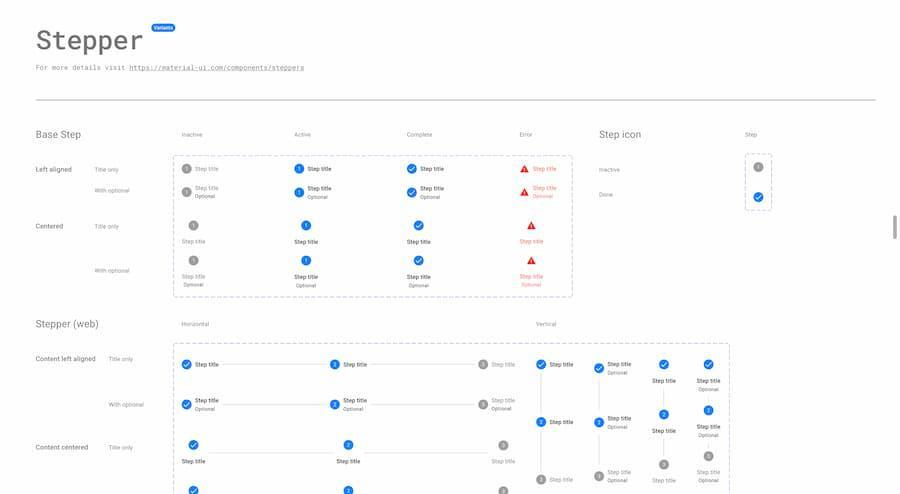checkbox: (188, 439, 206, 455), (413, 219, 429, 234), (413, 254, 427, 269), (181, 397, 195, 411), (408, 186, 420, 200), (182, 358, 193, 373), (406, 164, 420, 175), (755, 192, 766, 204), (660, 360, 671, 371), (536, 361, 548, 371), (705, 360, 715, 372)
icon: (520, 186, 533, 201), (525, 256, 540, 268), (527, 221, 539, 234), (520, 162, 530, 177)
label: (307, 184, 335, 204), (292, 273, 322, 291), (517, 273, 548, 290), (404, 272, 433, 290), (419, 185, 447, 203), (194, 396, 222, 413), (532, 185, 561, 201), (193, 360, 224, 371), (405, 237, 435, 248), (182, 457, 209, 468), (308, 165, 334, 176), (533, 165, 560, 175), (420, 164, 447, 174), (293, 238, 321, 247), (695, 377, 723, 386), (549, 361, 576, 370), (651, 377, 678, 386), (520, 239, 546, 247)
